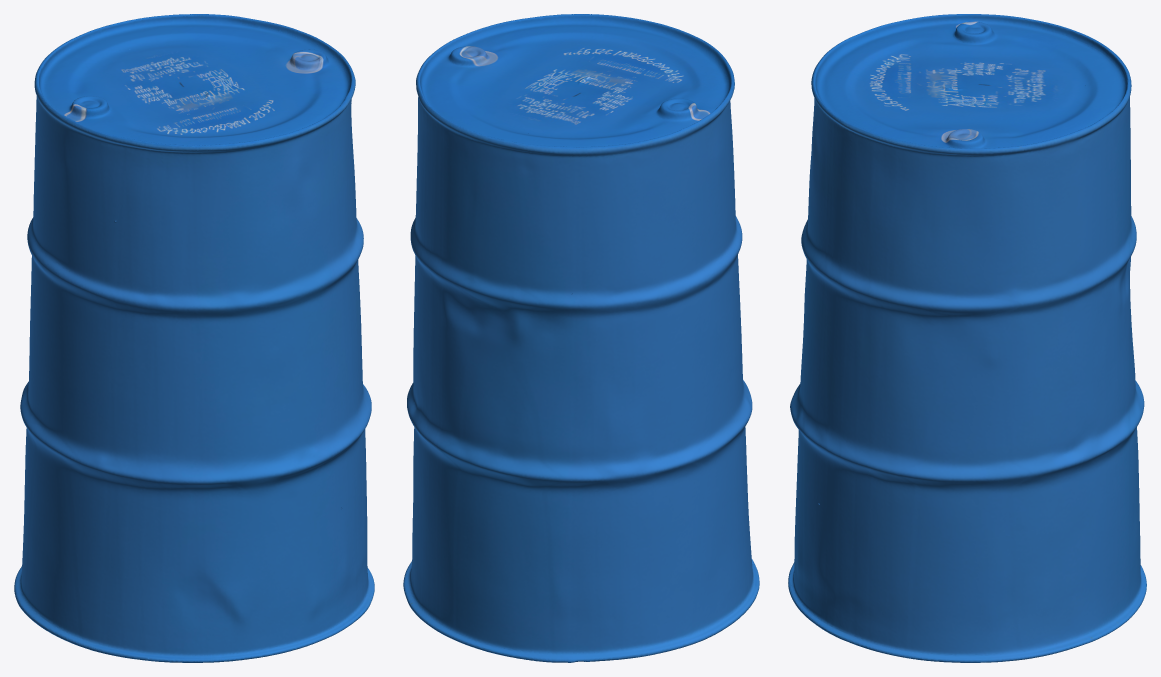
File: blue_drum.fbx
The picture shows the model from 3 angles, left to right: view 1: azimuth 30°, elevation 25°; view 2: azimuth 150°, elevation 25°; view 3: azimuth 270°, elevation 25°; orthographic projection.
Visible parts, largest first — view 1: tripo_node_bcae7ef0; view 2: tripo_node_bcae7ef0; view 3: tripo_node_bcae7ef0.
Part boxes in pixels (box(x1,y1,x2,y2)): tripo_node_bcae7ef0: box(14, 14, 374, 662); tripo_node_bcae7ef0: box(403, 14, 759, 662); tripo_node_bcae7ef0: box(788, 14, 1146, 662).
Size of the model in its own units: 0.6329 by 1 by 0.635.
